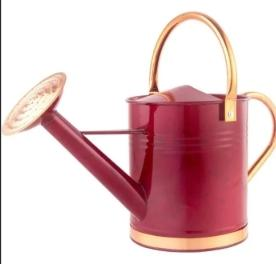ARROSOIR: (1, 3, 275, 264)
